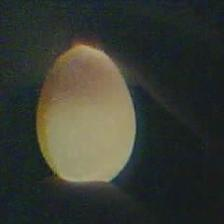infertile: (36, 43, 137, 188)
